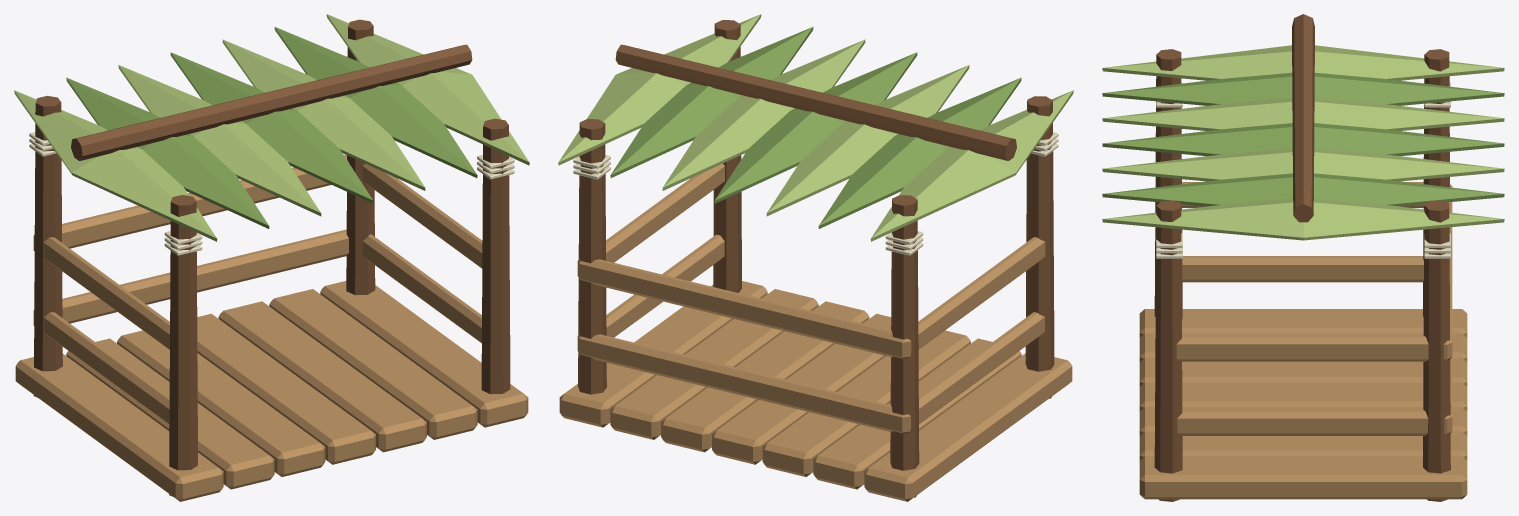
File: CC_Storage.fbx
3 views of the same model, side by side, from view 1: azimuth 30°, elevation 25°; view 2: azimuth 150°, elevation 25°; view 3: azimuth 270°, elevation 25° (orthographic).
Visible parts, largest first — view 1: Floor plank, Floor plank.004, Floor plank.005, Ridge, Floor plank.003, Floor plank.006, Floor plank.002, Roof leaf, Post.002, Post, Roof leaf.005, Roof leaf.004 (+13 smaller); view 2: Floor plank, Ridge, Back slat.001, Back slat, Roof leaf, Roof leaf.005, Roof leaf.004, Roof leaf.003, Roof leaf.002, Roof leaf.001, Floor plank.004, Floor plank.005 (+13 smaller); view 3: Floor plank.006, Roof leaf.006, Roof leaf.004, Roof leaf.001, Roof leaf.002, Roof leaf.003, Roof leaf.005, Roof leaf, Floor plank.003, Floor plank, Side slat.003, Side slat.001 (+11 smaller).
Part boxes in pixels (box(x1,y1,x2,y2)): Floor plank: box(15, 353, 223, 501); Floor plank.004: box(218, 301, 426, 452); Floor plank.005: box(269, 289, 477, 439); Ridge: box(71, 44, 472, 160); Floor plank.003: box(197, 313, 375, 464); Floor plank.006: box(320, 281, 528, 427); Floor plank.002: box(117, 330, 325, 476); Roof leaf: box(14, 90, 217, 241); Post.002: box(481, 118, 510, 394); Post: box(169, 195, 197, 496); Roof leaf.005: box(274, 27, 477, 177); Roof leaf.004: box(222, 39, 425, 190); Floor plank: box(864, 353, 1072, 501); Ridge: box(615, 44, 1016, 160); Back slat.001: box(577, 259, 911, 358); Back slat: box(577, 334, 910, 433); Roof leaf: box(870, 90, 1073, 241); Roof leaf.005: box(610, 27, 813, 177); Roof leaf.004: box(662, 39, 865, 190); Roof leaf.003: box(714, 52, 917, 203); Roof leaf.002: box(766, 65, 969, 216); Roof leaf.001: box(818, 77, 1021, 228); Floor plank.004: box(661, 301, 869, 452); Floor plank.005: box(610, 289, 818, 439); Floor plank.006: box(1139, 456, 1467, 499); Roof leaf.006: box(1102, 198, 1504, 240); Roof leaf.004: box(1102, 148, 1504, 181); Roof leaf.001: box(1102, 72, 1504, 105); Roof leaf.002: box(1102, 98, 1504, 130); Roof leaf.003: box(1102, 123, 1504, 156); Roof leaf.005: box(1102, 173, 1504, 206); Roof leaf: box(1102, 45, 1504, 80); Floor plank.003: box(1139, 382, 1467, 411); Floor plank: box(1139, 309, 1467, 337); Side slat.003: box(1176, 335, 1428, 361); Side slat.001: box(1177, 409, 1428, 435).
Bounding box in the file's own units: 3.08 × 2.31 × 2.7.
